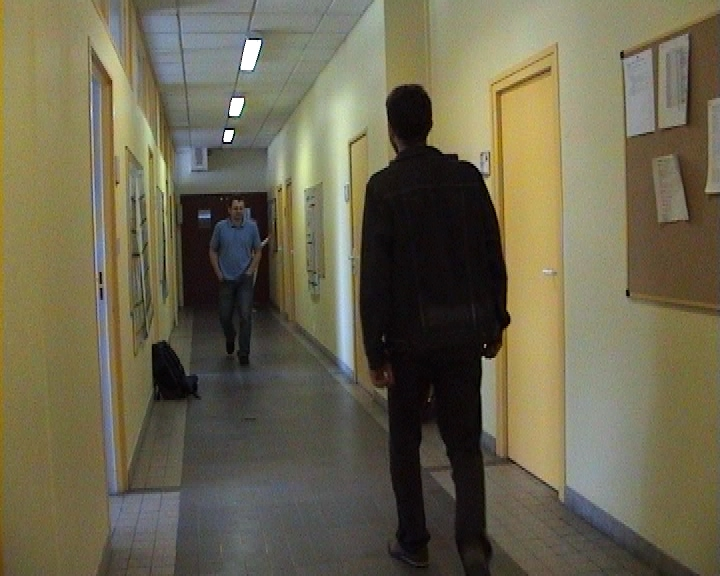leave bag unattended: (139, 329, 220, 419)
